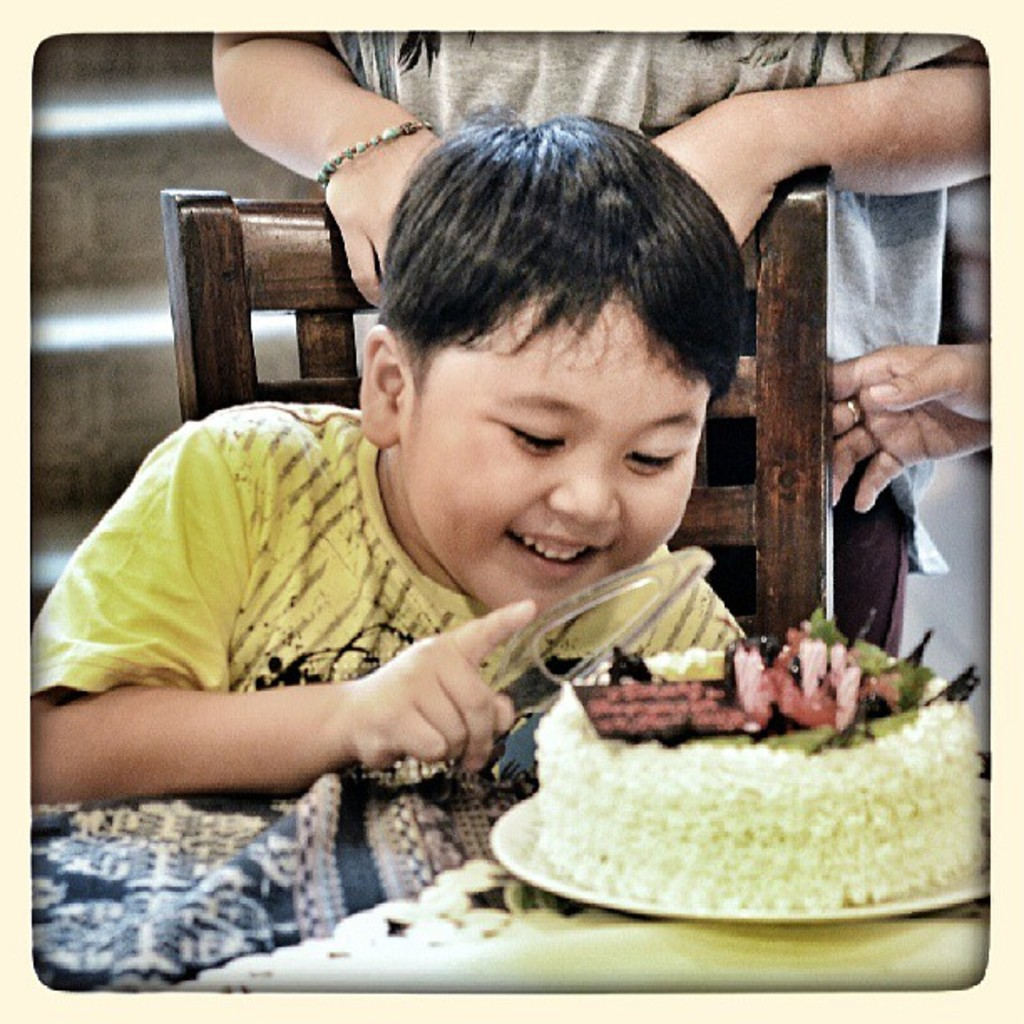cake: (487, 599, 970, 940)
